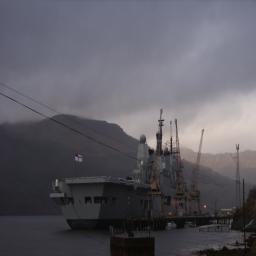Portanaves: (51, 107, 211, 234)
